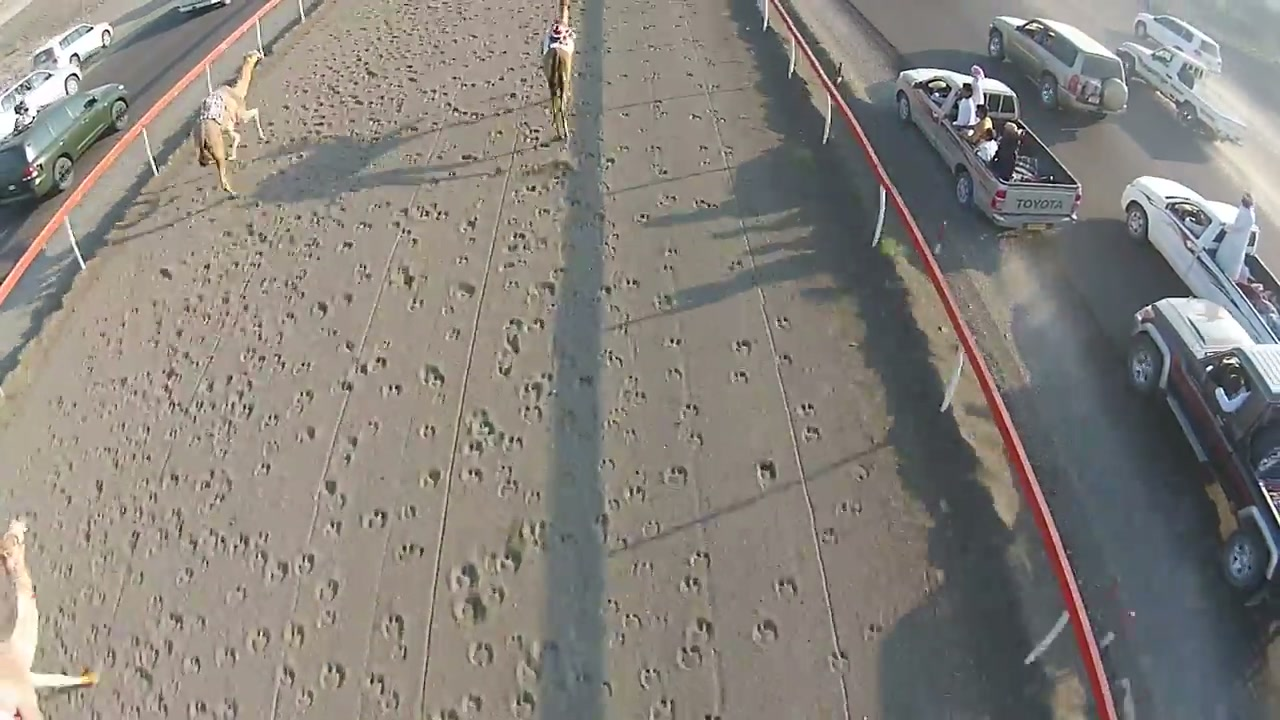animal_foot_print: (368, 97, 613, 713), (674, 80, 890, 678), (120, 111, 300, 719), (599, 70, 719, 719)
